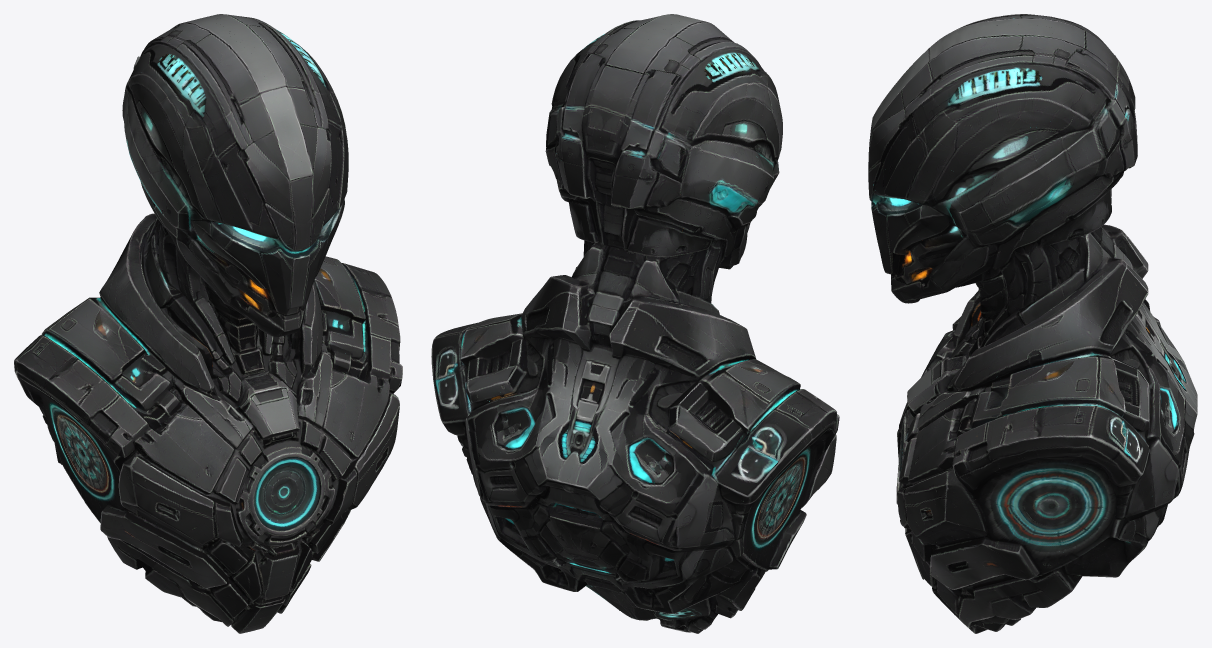
File: apex-operator-meshy-app-ready.glb
3 renders of one model, left to right at view 1: azimuth 30°, elevation 25°; view 2: azimuth 150°, elevation 25°; view 3: azimuth 270°, elevation 25°, orthographic. The views are drawn at different scales.
Parts seen in each view (by area): view 1: Mesh_0; view 2: Mesh_0; view 3: Mesh_0.
Boxes of the visible parts, x1=… form: Mesh_0: x1=14, y1=14, x2=402, y2=633; Mesh_0: x1=431, y1=14, x2=839, y2=633; Mesh_0: x1=868, y1=14, x2=1197, y2=633.
Size of the model in its own units: 1.22 by 1.9 by 0.9419.
Materials: 1 (1 with a texture image).
